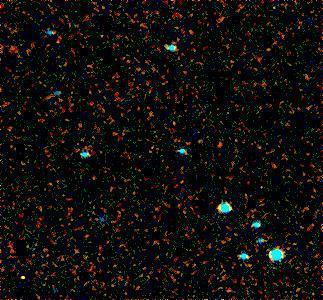star: (8, 263, 38, 293)
